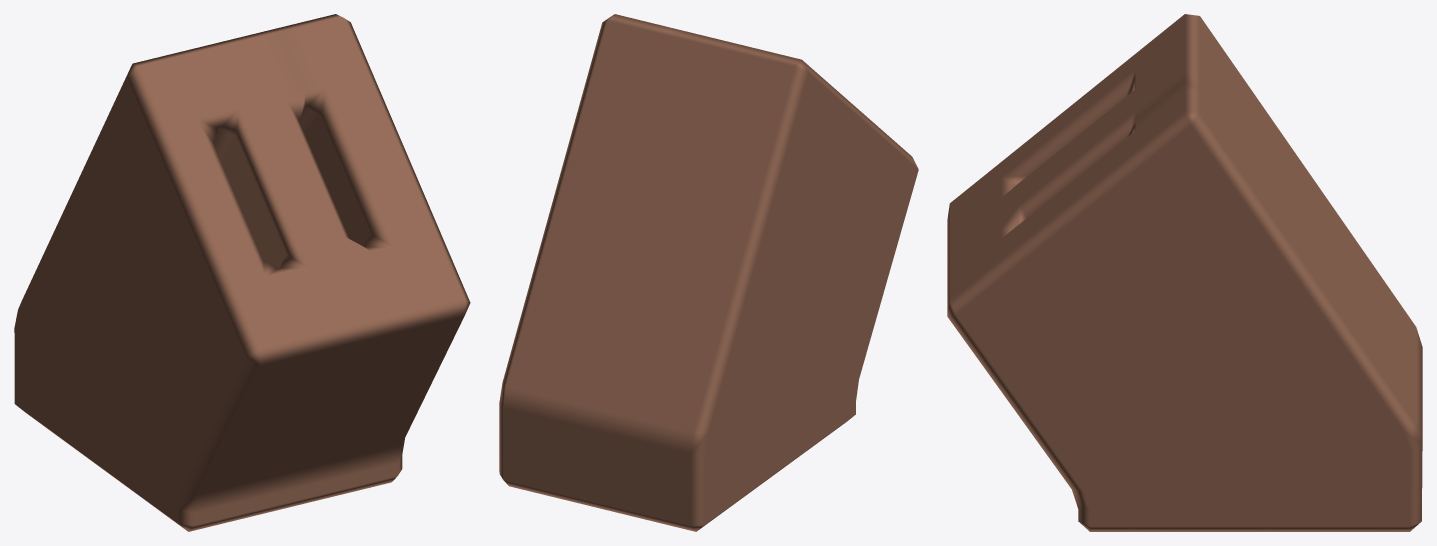
File: KnifeBlock.fbx
3 views of the same model, side by side, from view 1: azimuth 30°, elevation 25°; view 2: azimuth 150°, elevation 25°; view 3: azimuth 270°, elevation 25° (orthographic). The views are drawn at different scales.
Parts seen in each view (by area): view 1: KnifeBlock; view 2: KnifeBlock; view 3: KnifeBlock.
Part boxes in pixels (box(x1,y1,x2,y2)): KnifeBlock: box(14, 14, 470, 531); KnifeBlock: box(499, 14, 918, 531); KnifeBlock: box(947, 14, 1422, 531).
Size of the model in its own units: 9.7 by 17.75 by 18.17.
